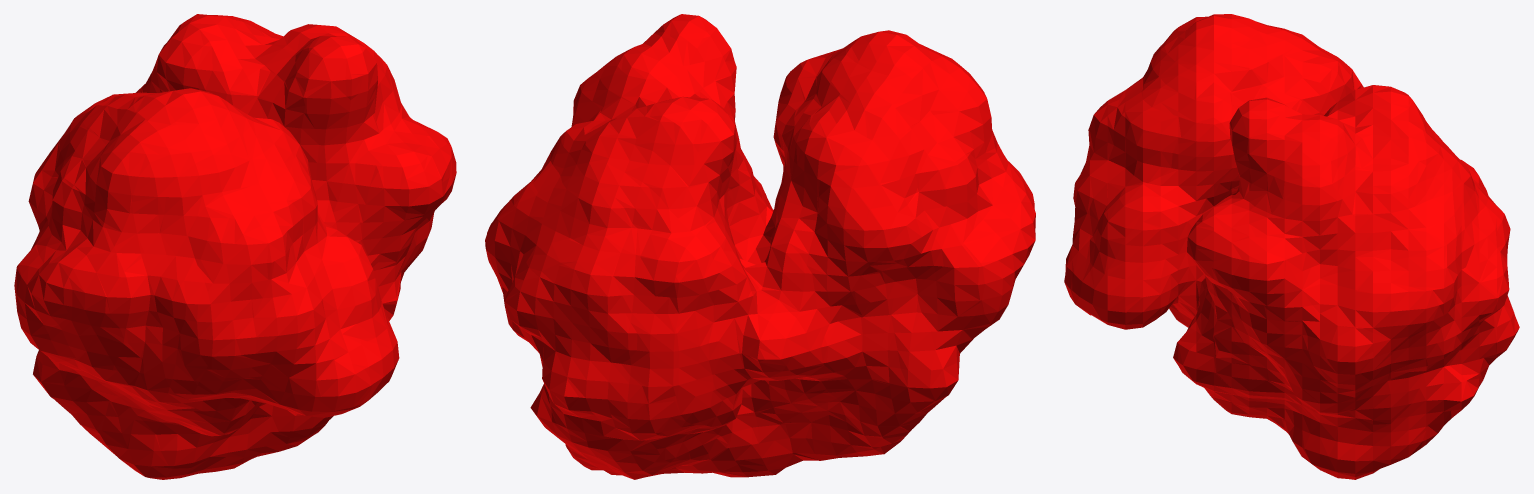
File: metE_coarse.dae
The picture shows the model from 3 angles, left to right: view 1: azimuth 30°, elevation 25°; view 2: azimuth 150°, elevation 25°; view 3: azimuth 270°, elevation 25°; orthographic projection. The views are drawn at different scales.
Parts seen in each view (by area): view 1: metE; view 2: metE; view 3: metE.
Part boxes in pixels (x1=…): metE: x1=14, y1=14, x2=456, y2=479; metE: x1=485, y1=14, x2=1035, y2=479; metE: x1=1064, y1=14, x2=1519, y2=479.
Size of the model in its own units: 79.33 by 72.07 by 78.25.
